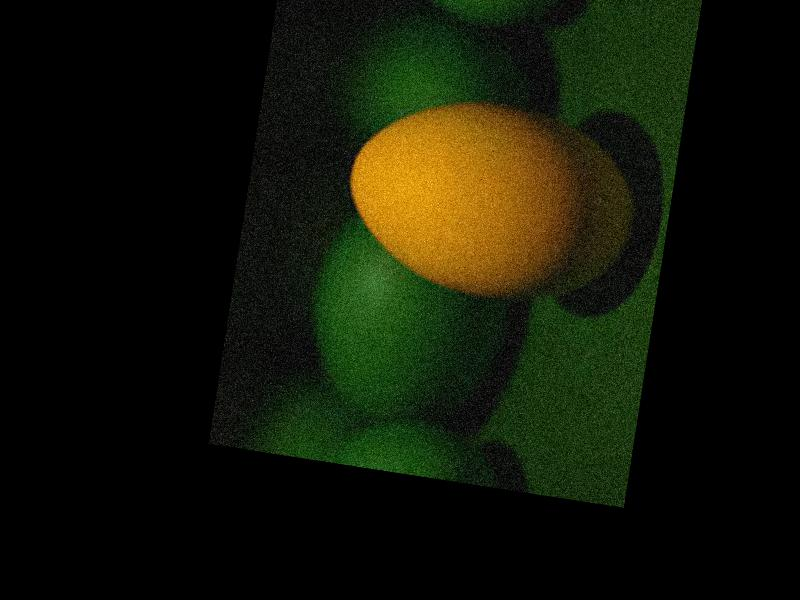Eggs: (337, 83, 648, 317)
